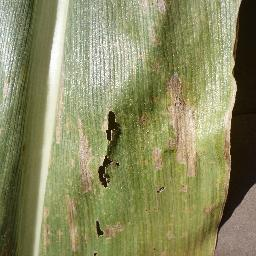Gray_Leaf_Spot: (130, 0, 242, 256), (89, 105, 122, 193), (57, 193, 90, 256), (53, 59, 70, 147), (75, 108, 90, 193), (92, 214, 126, 241), (0, 208, 16, 256), (41, 199, 55, 253)
